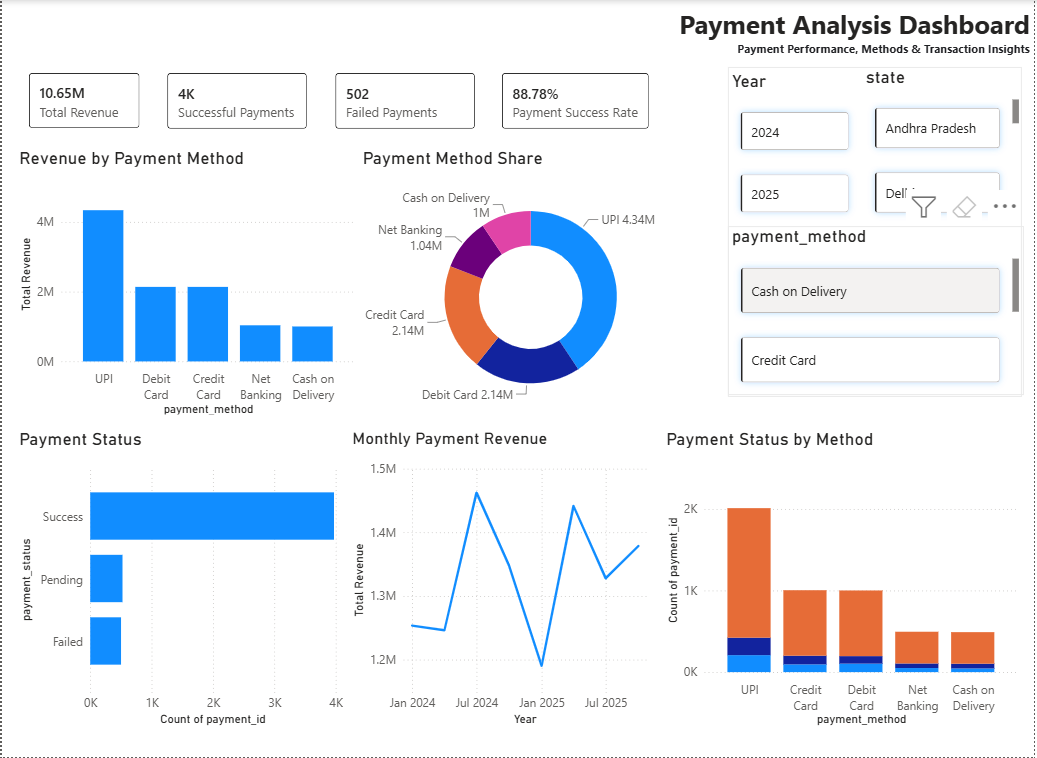

What the dashboard file says about the page in this screenshot:
{"tool":"powerbi","page":{"name":"Payment_A","canvas":[1280,940],"ordinal":4},"visuals":[{"type":"textbox","box":[0,0,1280,74.3],"z":0},{"type":"cardVisual","fields":{"Data":["_Measure.Total Revenue"]},"box":[16.4,74.7,171.1,103],"z":1000},{"type":"advancedSlicerVisual","fields":{"Values":["novacart orders.order_date.Variation.Date Hierarchy.Year"]},"box":[900,84.5,166.7,196.7],"z":1000,"group":"g1"},{"type":"cardVisual","fields":{"Data":["_Measure.Successful Payments"]},"box":[188.2,74.7,207.7,103.1],"z":2000},{"type":"advancedSlicerVisual","fields":{"Values":["novacart customers.state"]},"box":[1066.4,83.9,200.1,197.4],"z":2000,"group":"g1"},{"type":"cardVisual","fields":{"Data":["_Measure.Failed Payments"]},"box":[395.9,74.7,207.7,103.1],"z":3000},{"type":"cardVisual","fields":{"Data":["_Measure.Payment Success Rate"]},"box":[603.6,74.7,216.6,103.1],"z":4000},{"type":"clusteredColumnChart","title":"Revenue by Payment Method","fields":{"Category":["novacart payments.payment_method"],"Y":["_Measure.Total Revenue"]},"box":[16.7,183.3,426.7,336.7],"z":5000},{"type":"donutChart","title":"Payment Method Share","fields":{"Category":["novacart payments.payment_method"],"Y":["_Measure.Total Revenue"]},"box":[443.3,183.3,426.7,336.7],"z":6000},{"type":"advancedSlicerVisual","fields":{"Values":["novacart payments.payment_method"]},"box":[900,282.2,366.7,210],"z":6000,"group":"g1"},{"type":"clusteredBarChart","title":"Payment Status","fields":{"Category":["novacart payments.payment_status"],"Y":["CountNonNull(novacart payments.payment_id)"]},"box":[16.7,531.7,411.7,373.3],"z":7000},{"type":"lineChart","title":"Monthly Payment Revenue","fields":{"Category":["novacart orders.order_date.Variation.Date Hierarchy.Year","novacart orders.order_date.Variation.Date Hierarchy.Quarter"],"Y":["_Measure.Total Revenue"]},"box":[430,531.7,391.7,373.3],"z":8000},{"type":"columnChart","title":"Payment Status by Method","fields":{"Category":["novacart payments.payment_method"],"Series":["novacart payments.payment_status"],"Y":["CountNonNull(novacart payments.payment_id)"]},"box":[820,531.7,446.7,373.3],"z":9000},{"type":"group","id":"g1","title":"Group 1","box":[900,83.9,366.7,408.3],"z":10000}]}

Visuals, with their boxes in screenshot pixels (x1, y1, x2, y2), scaled from the page's 1280x940 canvas onto the 1037x758 screenshot:
textbox: BBox(0, 0, 1036, 60)
cardVisual - _Measure.Total Revenue: BBox(13, 60, 152, 143)
advancedSlicerVisual - novacart orders.order_date.Variation.Date Hierarchy.Year: BBox(729, 68, 864, 227)
cardVisual - _Measure.Successful Payments: BBox(152, 60, 321, 143)
advancedSlicerVisual - novacart customers.state: BBox(864, 68, 1026, 227)
cardVisual - _Measure.Failed Payments: BBox(321, 60, 489, 143)
cardVisual - _Measure.Payment Success Rate: BBox(489, 60, 664, 143)
"Revenue by Payment Method" clusteredColumnChart: BBox(14, 148, 359, 419)
"Payment Method Share" donutChart: BBox(359, 148, 705, 419)
advancedSlicerVisual - novacart payments.payment_method: BBox(729, 228, 1026, 397)
"Payment Status" clusteredBarChart: BBox(14, 429, 347, 730)
"Monthly Payment Revenue" lineChart: BBox(348, 429, 666, 730)
"Payment Status by Method" columnChart: BBox(664, 429, 1026, 730)
"Group 1" group: BBox(729, 68, 1026, 397)
